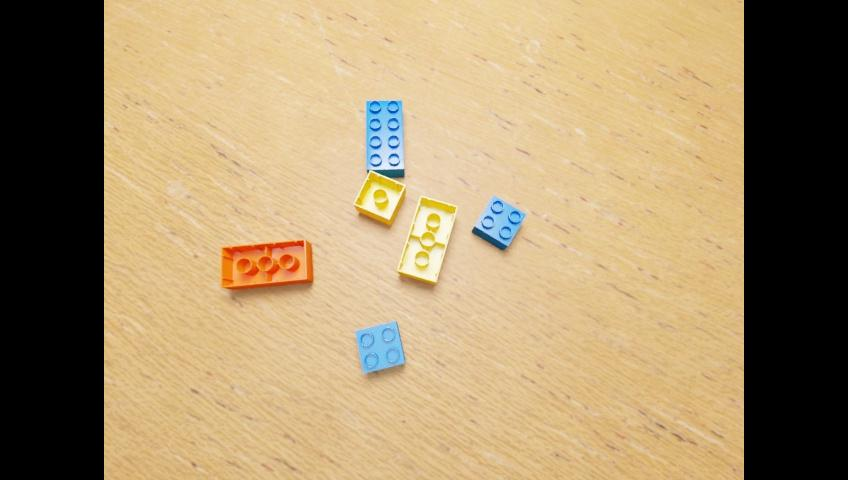2x2_blue: (471, 194, 525, 250), (355, 320, 404, 373)
2x2_yellow: (353, 170, 405, 225)
4x2_blue: (366, 99, 403, 177)
4x2_orange: (220, 238, 312, 289)
4x2_yellow: (397, 195, 457, 284)
